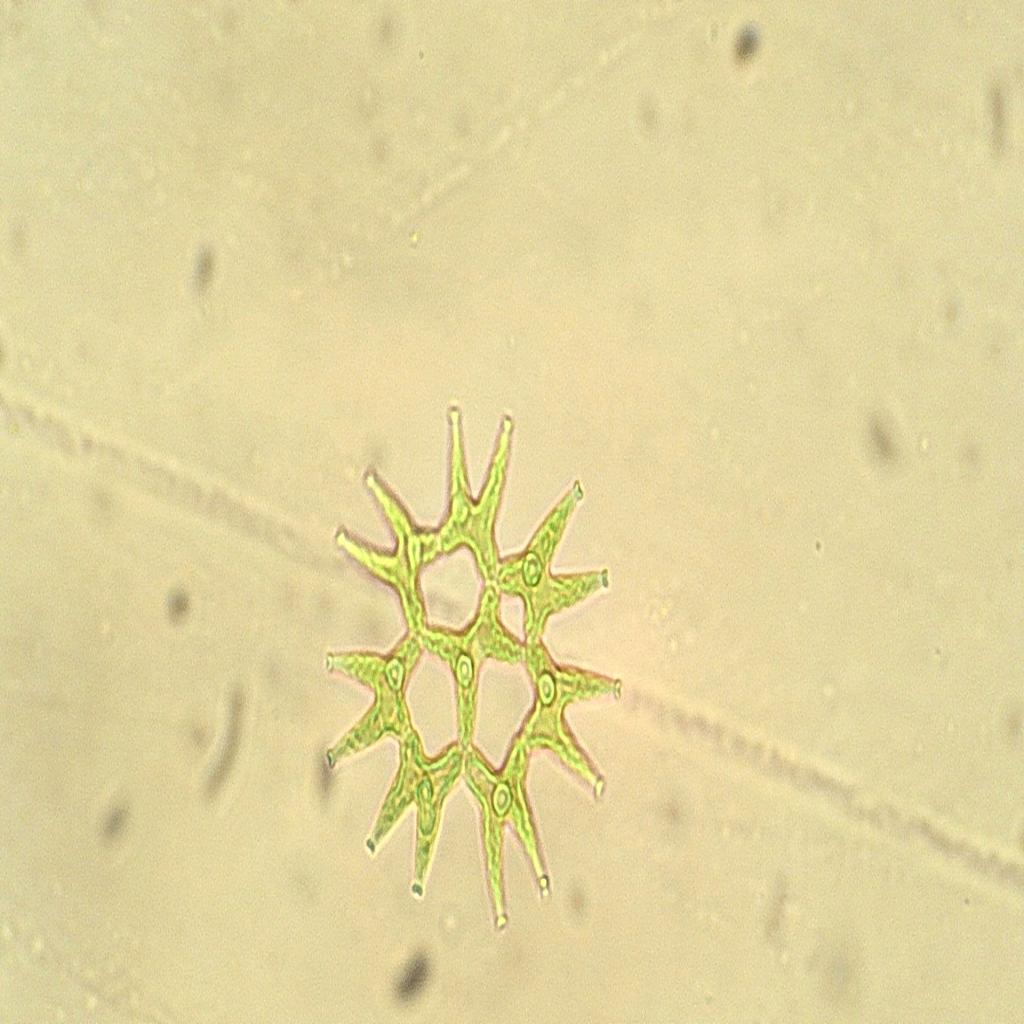Pediastrum_CTH: (318, 399, 631, 944)
